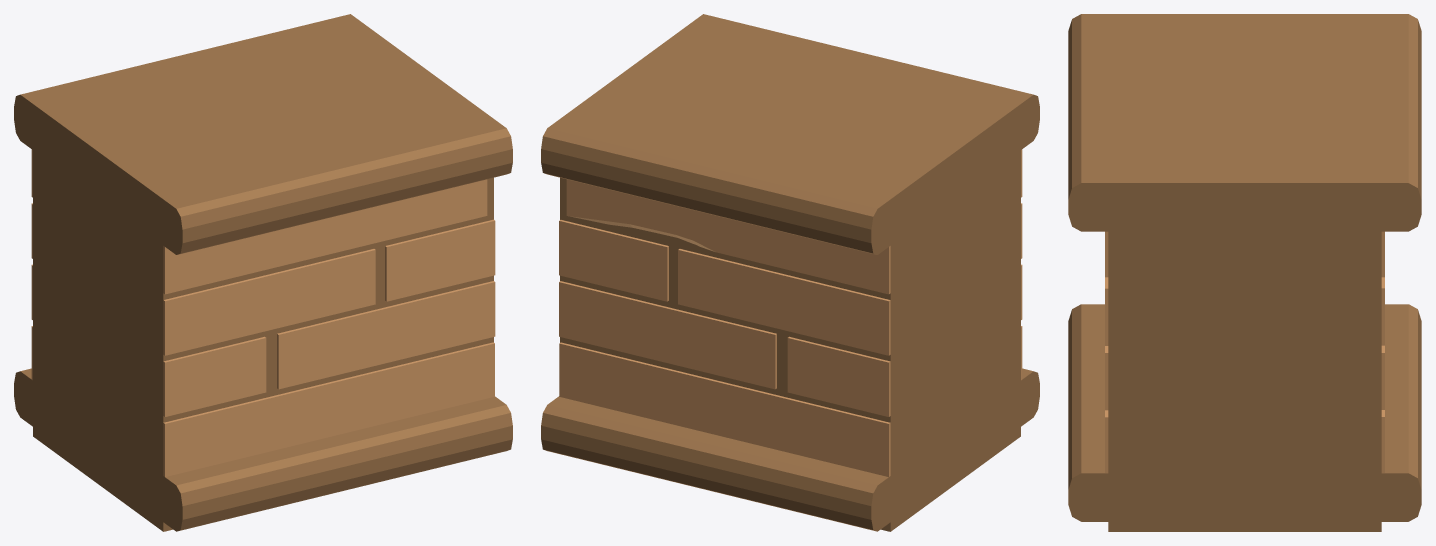
File: Counter_Straight_Small.fbx
The picture shows the model from 3 angles, left to right: view 1: azimuth 30°, elevation 25°; view 2: azimuth 150°, elevation 25°; view 3: azimuth 270°, elevation 25°; orthographic projection. The views are drawn at different scales.
Parts seen in each view (by area): view 1: Environment_Counter_Straight_2; view 2: Environment_Counter_Straight_2; view 3: Environment_Counter_Straight_2.
Part boxes in pixels (x1=…): Environment_Counter_Straight_2: x1=14, y1=14, x2=512, y2=531; Environment_Counter_Straight_2: x1=541, y1=14, x2=1039, y2=531; Environment_Counter_Straight_2: x1=1068, y1=14, x2=1421, y2=531.
Bounding box in the file's own units: 200 × 192 × 177.
